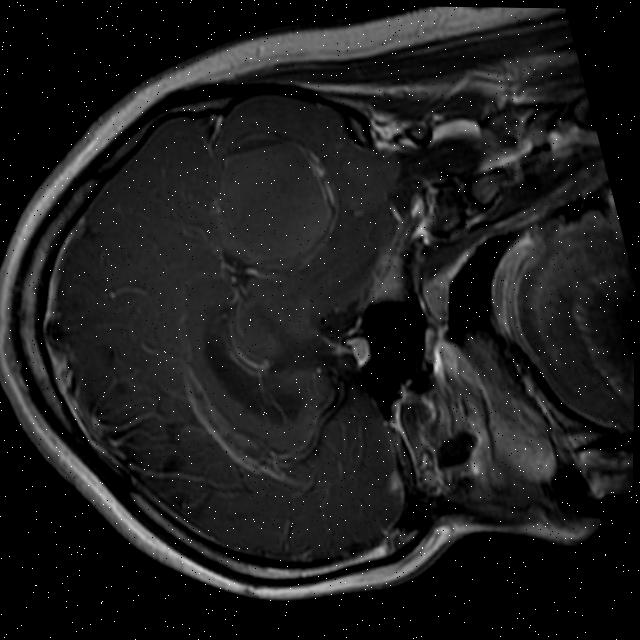Glioma: (188, 107, 358, 295)
Pituitary: (344, 332, 374, 368)
